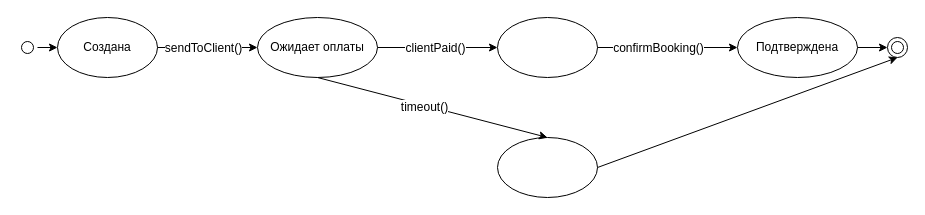
The diagram is 925 pixels wide and 215 high, and some of its shapes have lost their labels. Each missing label, with the box of its shape:
Оплачена: (496, 16, 598, 78)
Отменена: (496, 136, 598, 198)
